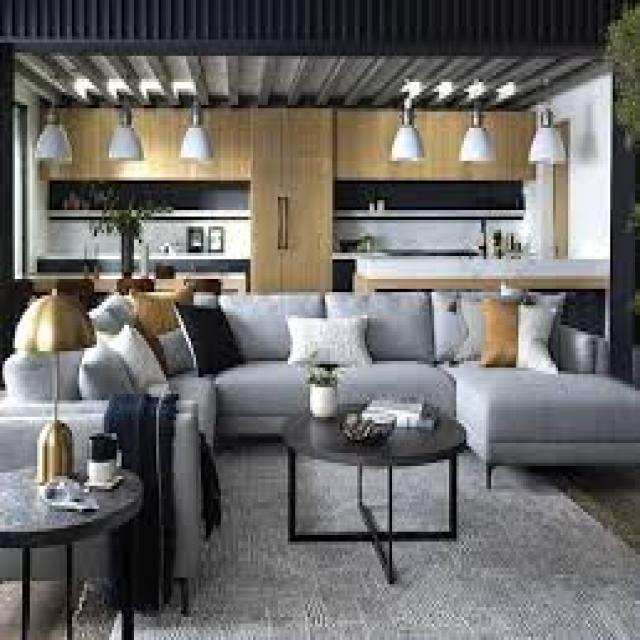Lamp: (13, 298, 99, 477), (32, 102, 84, 170), (524, 122, 571, 175), (104, 106, 141, 169), (454, 119, 500, 168), (182, 108, 216, 170), (388, 124, 426, 166)
Sofa: (125, 269, 640, 469), (0, 270, 235, 584)
Table: (277, 392, 463, 574), (5, 472, 148, 640)
